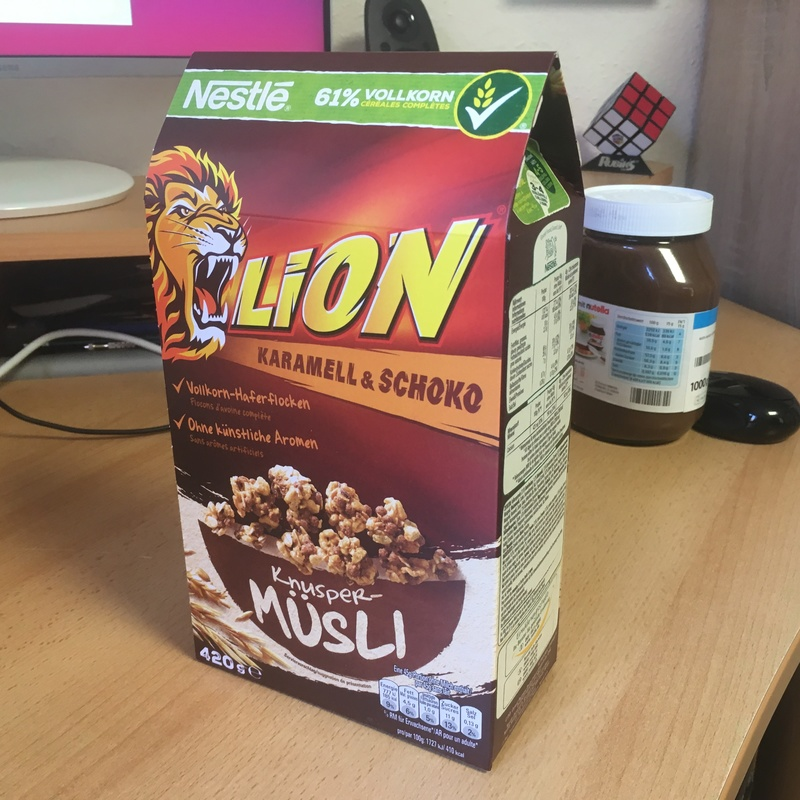cereals: (143, 49, 586, 768)
